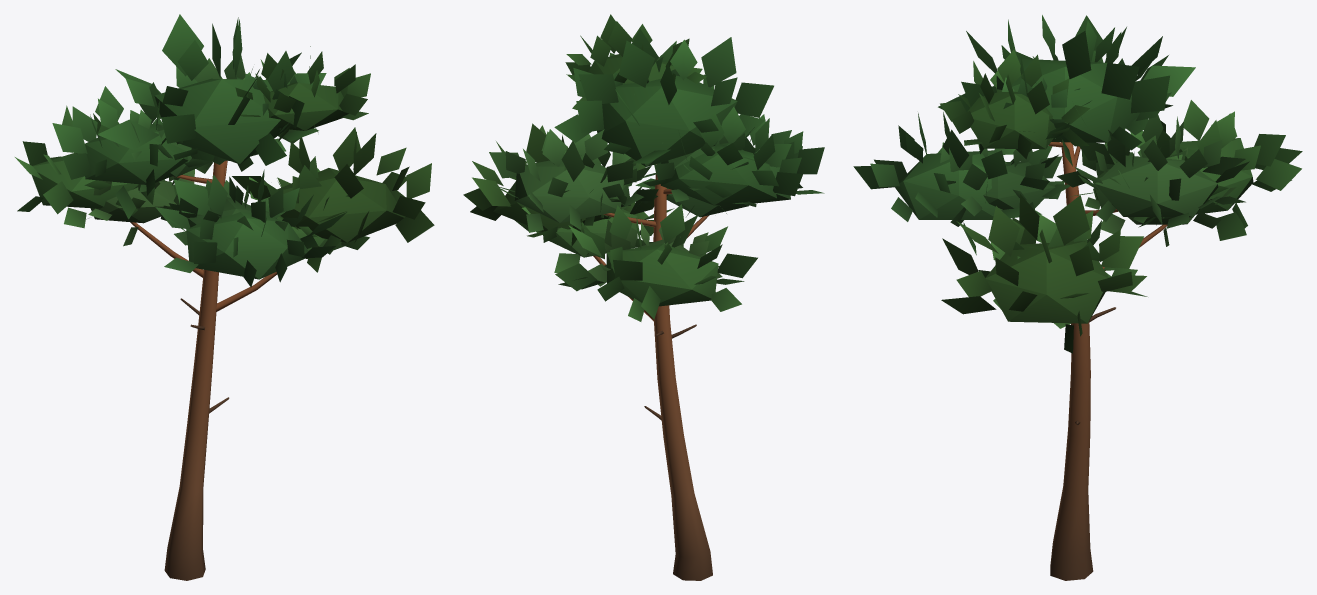
File: pine_b.glb
The picture shows the model from 3 angles, left to right: view 1: azimuth 30°, elevation 25°; view 2: azimuth 150°, elevation 25°; view 3: azimuth 270°, elevation 25°; orthographic projection. The views are drawn at different scales.
Parts seen in each view (by area): view 1: pine_b; view 2: pine_b; view 3: pine_b.
Boxes of the visible parts, box(x1,y1,x2,y2) form: pine_b: box(15, 14, 434, 580); pine_b: box(463, 14, 824, 580); pine_b: box(853, 15, 1302, 580).
Size of the model in its own units: 6.52 by 9.57 by 6.81.
